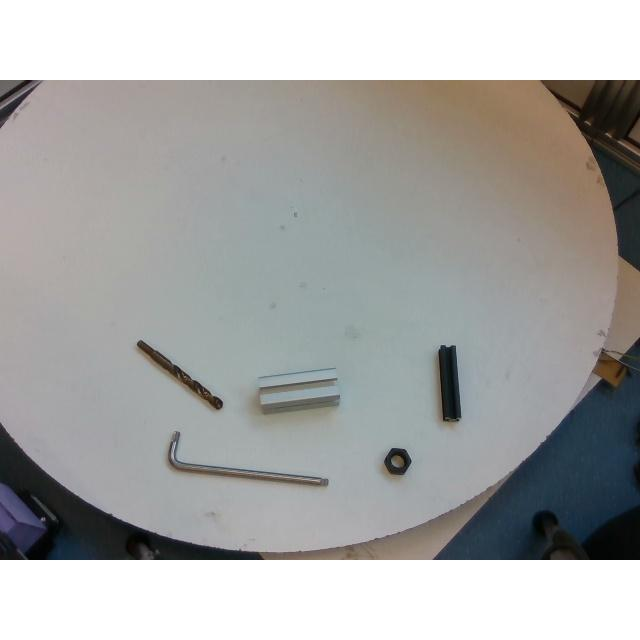AllenKey: (168, 431, 328, 485)
Drill: (137, 339, 223, 409)
F20_20_B: (438, 344, 460, 420)
M20: (384, 448, 412, 476)
S40_40_G: (256, 369, 340, 413)
